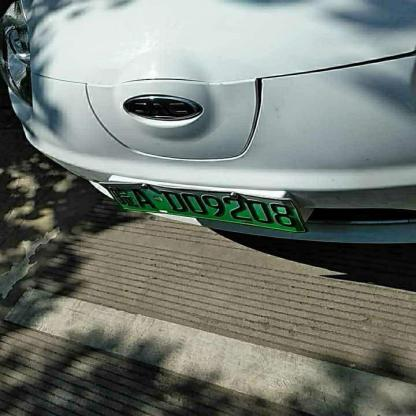lp: (103, 184, 303, 232)
